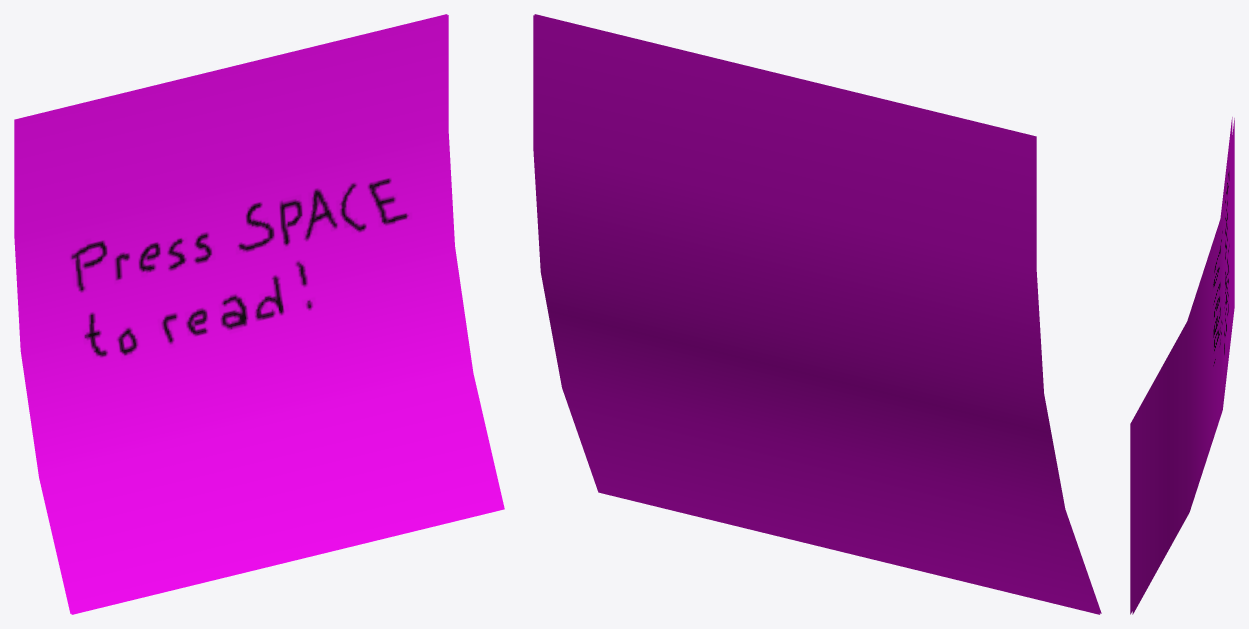
The model's file is note_post_it_flow_control.dae.
3 views of the same model, side by side, from view 1: azimuth 30°, elevation 25°; view 2: azimuth 150°, elevation 25°; view 3: azimuth 270°, elevation 25° (orthographic). The views are drawn at different scales.
Parts seen in each view (by area): view 1: polySurface1; view 2: polySurface1; view 3: polySurface1.
Part boxes in pixels (x1,y1,x2,y2): polySurface1: (14, 14, 504, 614); polySurface1: (533, 14, 1101, 614); polySurface1: (1130, 117, 1234, 614).
Bounding box in the file's own units: 0.12 × 0.12 × 0.0277.
